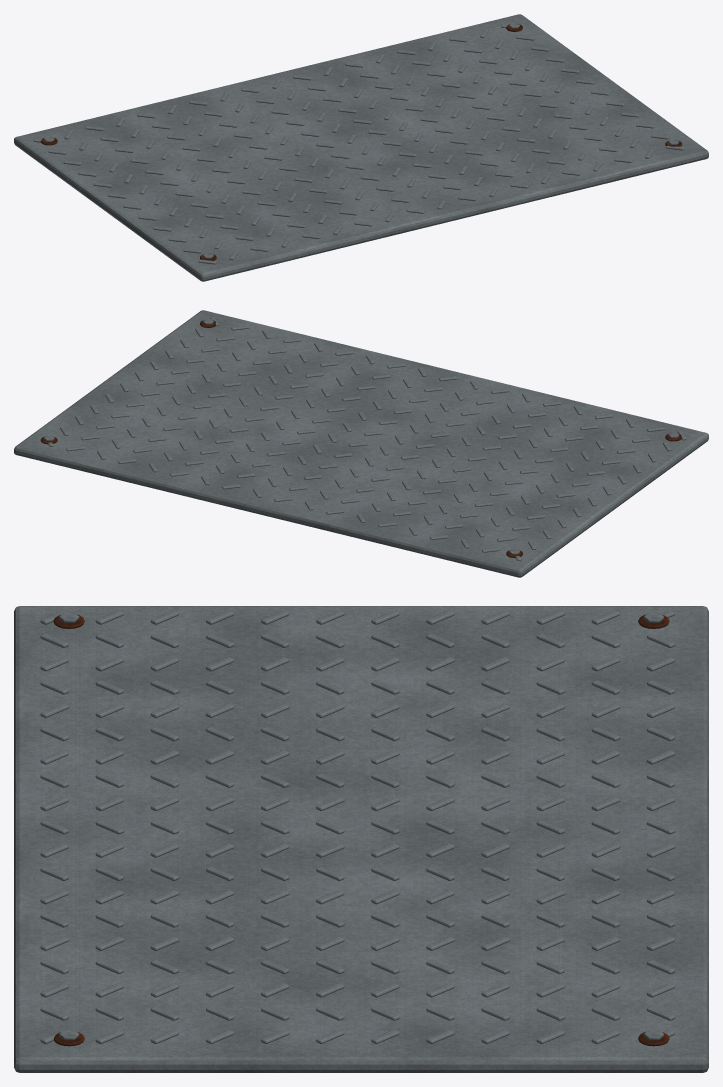
File: Lab_MetalFloorPlate.fbx
3 views of the same model, one above another, from view 1: azimuth 30°, elevation 25°; view 2: azimuth 150°, elevation 25°; view 3: azimuth 270°, elevation 25° (orthographic). The views are drawn at different scales.
Parts seen in each view (by area): view 1: Lab_MetalFloorPlate_prop; view 2: Lab_MetalFloorPlate_prop; view 3: Lab_MetalFloorPlate_prop.
Boxes of the visible parts, x1=… form: Lab_MetalFloorPlate_prop: x1=14, y1=14, x2=708, y2=281; Lab_MetalFloorPlate_prop: x1=14, y1=310, x2=708, y2=577; Lab_MetalFloorPlate_prop: x1=14, y1=606, x2=708, y2=1072.
Size of the model in its own units: 2.25 by 0.052 by 1.45.
2 materials, 2 textured.
